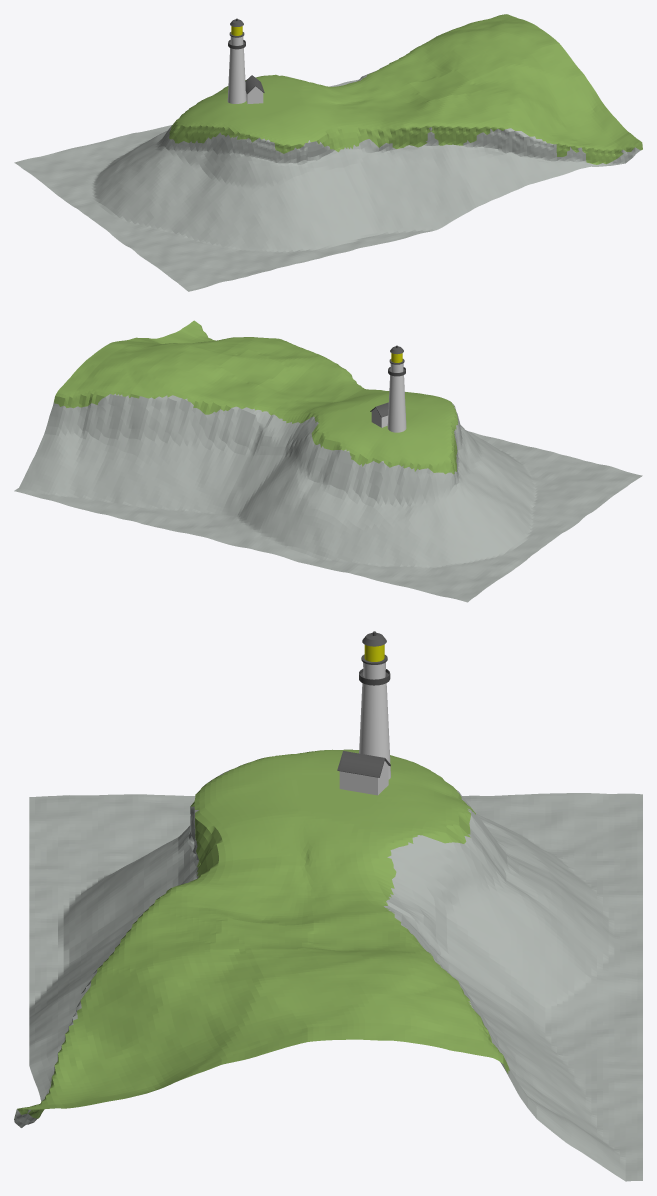
File: headland_with_lighthouse.fbx
The picture shows the model from 3 angles, top to bottom: view 1: azimuth 30°, elevation 25°; view 2: azimuth 150°, elevation 25°; view 3: azimuth 270°, elevation 25°; orthographic projection. The views are drawn at different scales.
Parts seen in each view (by area): view 1: land, lighthouse_tower, lighthouse_house; view 2: land, lighthouse_tower; view 3: land, lighthouse_tower, lighthouse_house.
Part boxes in pixels (x1=…): land: x1=14, y1=14, x2=642, y2=291; lighthouse_tower: x1=227, y1=18, x2=246, y2=103; lighthouse_house: x1=245, y1=75, x2=264, y2=103; land: x1=14, y1=320, x2=642, y2=602; lighthouse_tower: x1=387, y1=345, x2=406, y2=432; land: x1=14, y1=749, x2=642, y2=1181; lighthouse_tower: x1=359, y1=631, x2=390, y2=779; lighthouse_house: x1=337, y1=751, x2=390, y2=795.
Bounding box in the file's own units: 1 × 0.3498 × 0.6854.
